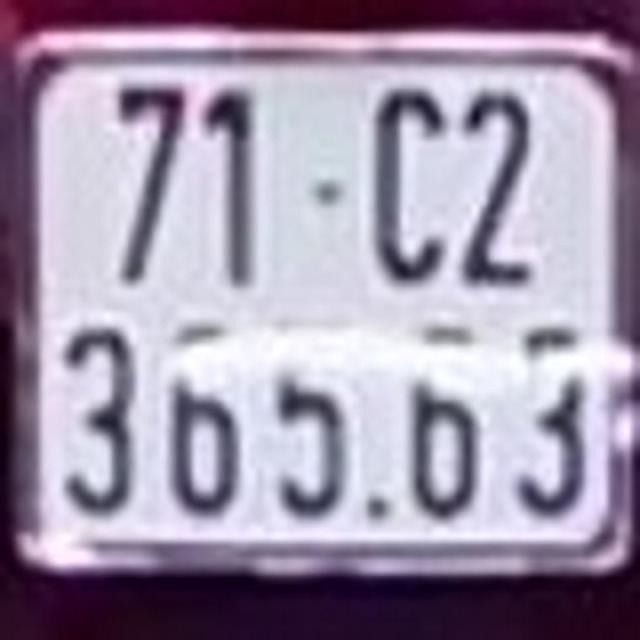1: (199, 72, 266, 291)
2: (463, 75, 532, 296)
3: (59, 312, 136, 520), (521, 308, 579, 532)
5: (272, 312, 345, 522)
6: (169, 314, 240, 528), (410, 315, 481, 520)
7: (113, 69, 186, 282)
C: (369, 72, 444, 290)
